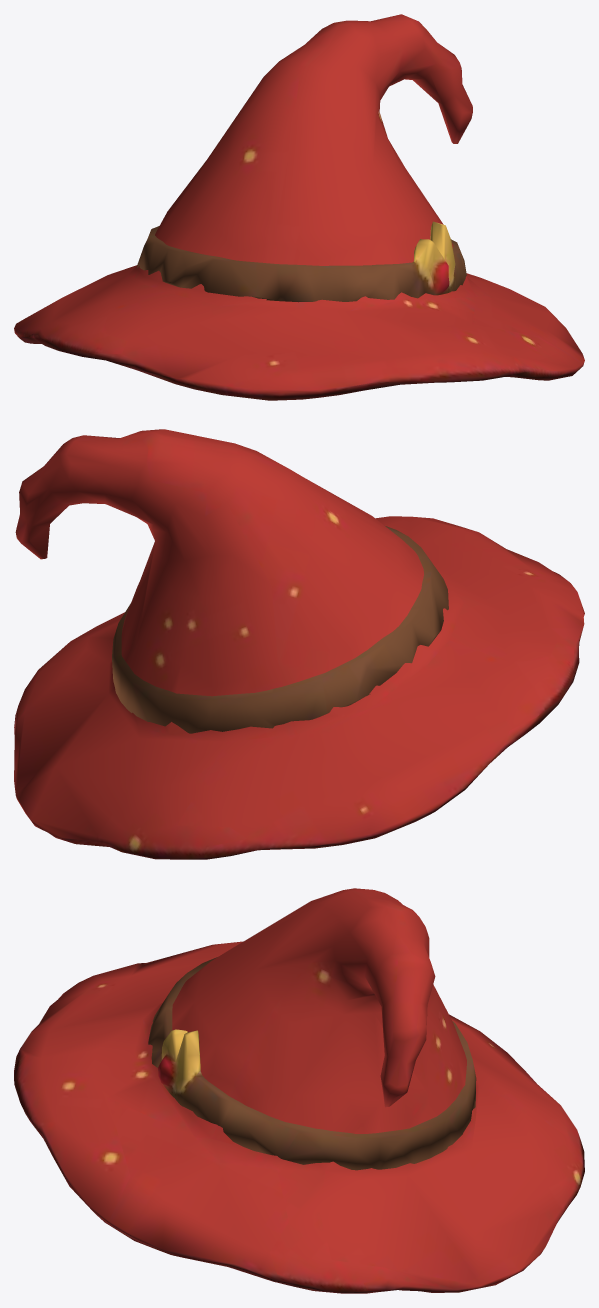
Rendered from wizard-hat.glb.
3 views of the same model, one above another, from view 1: azimuth 30°, elevation 25°; view 2: azimuth 150°, elevation 25°; view 3: azimuth 270°, elevation 25° (orthographic). The views are drawn at different scales.
Parts seen in each view (by area): view 1: hat; view 2: hat; view 3: hat.
Part boxes in pixels (box(x1,y1,x2,y2)): hat: box(14, 14, 584, 400); hat: box(14, 429, 584, 859); hat: box(14, 888, 584, 1293).
Size of the model in its own units: 0.7441 by 0.4968 by 0.7394.
Materials: 1 (1 with a texture image).
